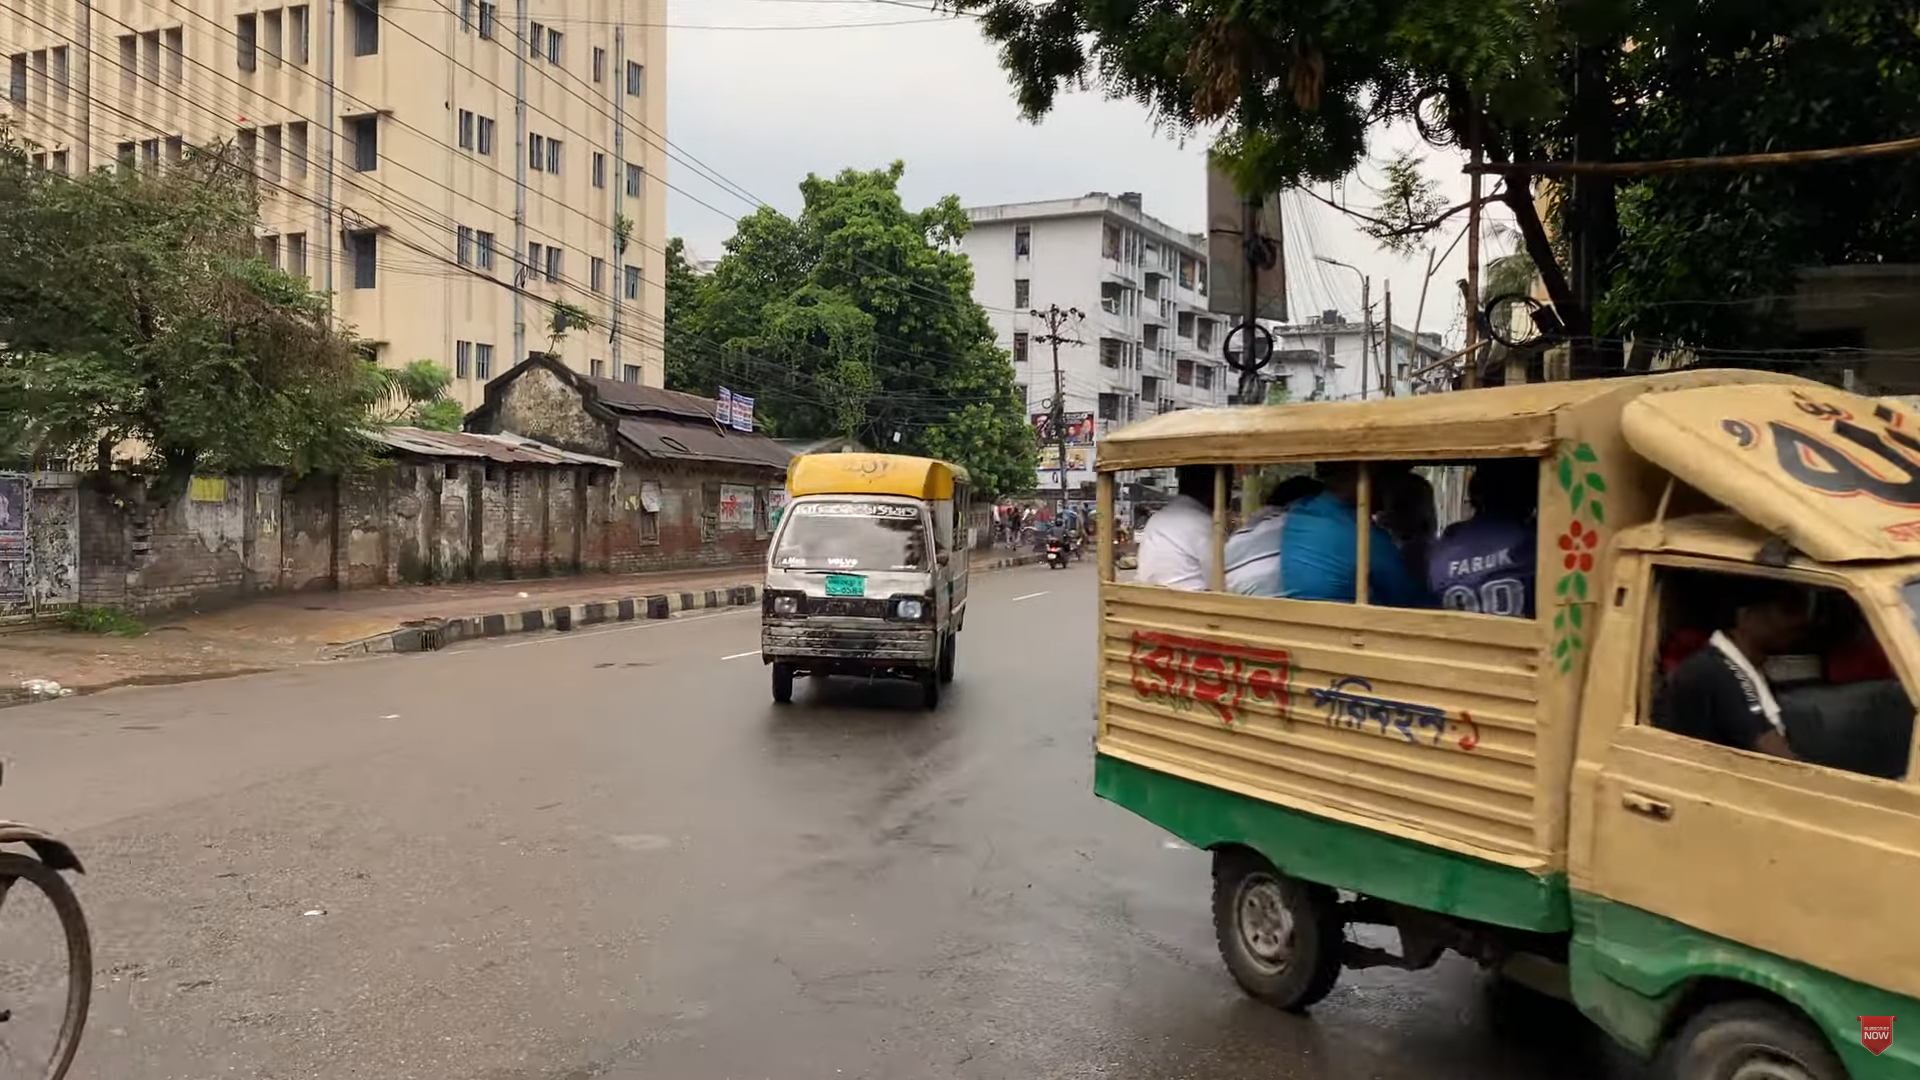Leguna: (1080, 389, 1919, 1072), (756, 444, 969, 729)
